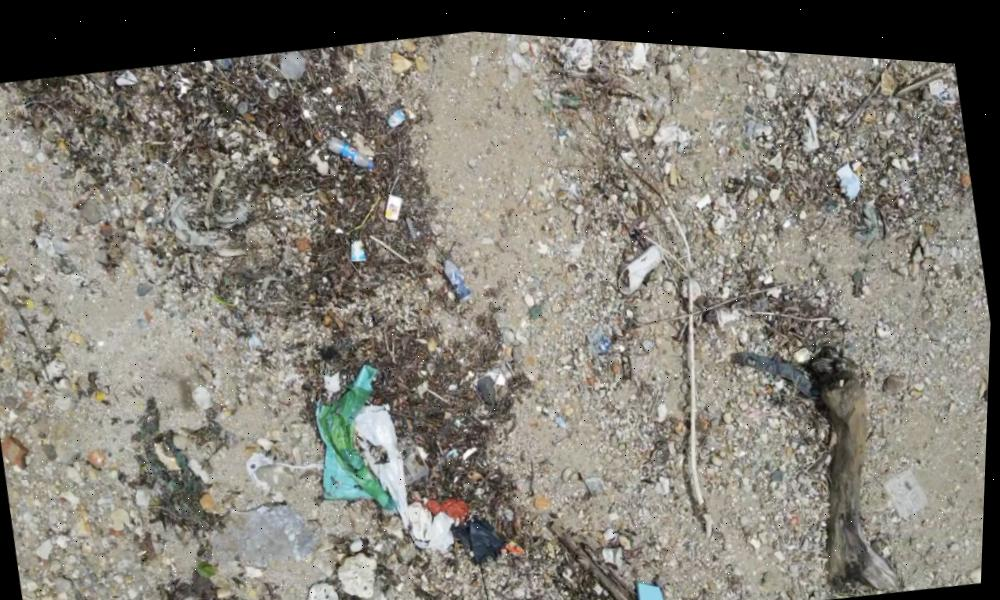plastic bottle: (330, 125, 378, 168), (443, 248, 475, 304)
